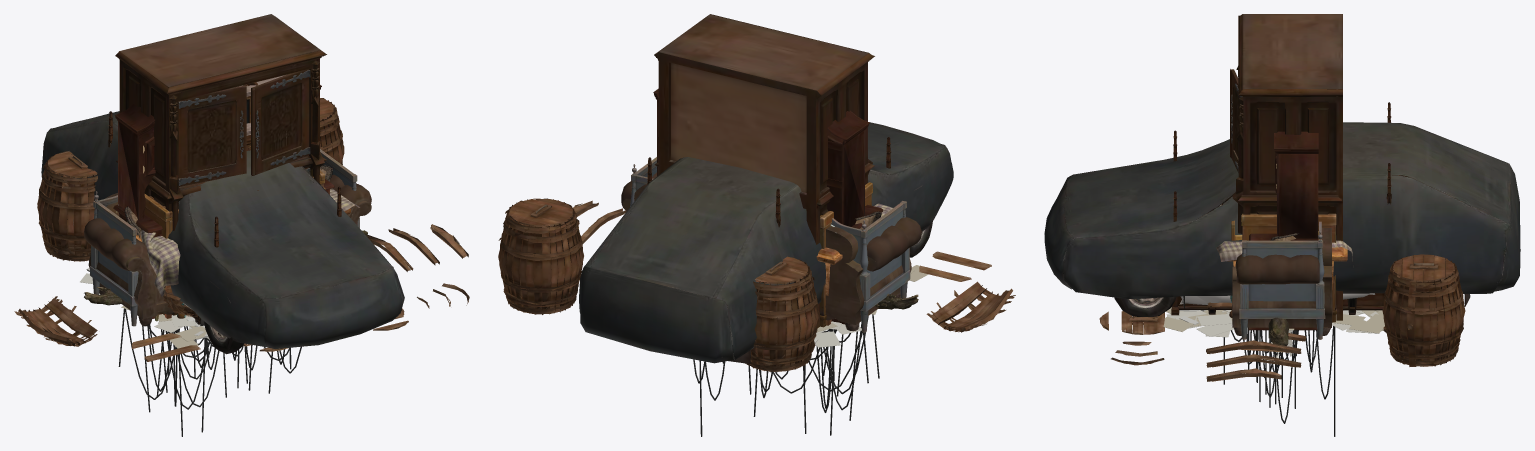
The model's file is props.glb.
3 renders of one model, left to right at view 1: azimuth 30°, elevation 25°; view 2: azimuth 150°, elevation 25°; view 3: azimuth 270°, elevation 25°, orthographic. The views are drawn at different scales.
Parts seen in each view (by area): view 1: covered_car|all, GothicCabinet_01|all, wooden_barrels_01|all, sofa_03|all, vintage_cabinet_01|all, painted_wooden_sofa|all, dining_table|all, UF|ward|cables_5, vintage_wooden_drawer_01|all, UF|ward|cables_2, GothicBed_01|all, dead_tree_trunk|all; view 2: covered_car|all, GothicCabinet_01|all, wooden_barrels_01|all, sofa_03|all, vintage_cabinet_01|all, painted_wooden_sofa|all, UF|ward|cables_5, UF|ward|cables_2, vintage_wooden_drawer_01|all, dining_table|all; view 3: covered_car|all, GothicCabinet_01|all, wooden_barrels_01|all, sofa_03|all, vintage_cabinet_01|all, painted_wooden_sofa|all, GothicBed_01|all, vintage_wooden_drawer_01|all, dining_table|all, UF|ward|litter_2, dead_tree_trunk|all, UF|ward|cables_2 (+1 smaller).
Boxes of the visible parts, bbox=[...] form: covered_car|all: bbox=[41, 111, 404, 354]; GothicCabinet_01|all: bbox=[115, 14, 326, 315]; wooden_barrels_01|all: bbox=[14, 98, 469, 361]; sofa_03|all: bbox=[84, 165, 371, 326]; vintage_cabinet_01|all: bbox=[113, 85, 334, 318]; painted_wooden_sofa|all: bbox=[90, 149, 359, 326]; dining_table|all: bbox=[136, 188, 359, 318]; UF|ward|cables_5: bbox=[156, 329, 226, 436]; vintage_wooden_drawer_01|all: bbox=[144, 170, 325, 314]; UF|ward|cables_2: bbox=[118, 308, 239, 399]; GothicBed_01|all: bbox=[108, 111, 341, 322]; dead_tree_trunk|all: bbox=[84, 230, 367, 305]; covered_car|all: bbox=[579, 122, 953, 363]; GothicCabinet_01|all: bbox=[654, 14, 874, 328]; wooden_barrels_01|all: bbox=[498, 198, 1015, 372]; sofa_03|all: bbox=[621, 172, 921, 331]; vintage_cabinet_01|all: bbox=[653, 88, 883, 324]; painted_wooden_sofa|all: bbox=[630, 157, 910, 332]; UF|ward|cables_5: bbox=[753, 314, 879, 435]; UF|ward|cables_2: bbox=[699, 324, 868, 436]; vintage_wooden_drawer_01|all: bbox=[819, 182, 873, 327]; dining_table|all: bbox=[816, 203, 892, 325]; covered_car|all: bbox=[1044, 122, 1520, 316]; GothicCabinet_01|all: bbox=[1221, 14, 1342, 320]; wooden_barrels_01|all: bbox=[1099, 175, 1465, 381]; sofa_03|all: bbox=[1232, 228, 1332, 335]; vintage_cabinet_01|all: bbox=[1248, 131, 1318, 330]; painted_wooden_sofa|all: bbox=[1239, 221, 1325, 339]; GothicBed_01|all: bbox=[1171, 102, 1391, 315]; vintage_wooden_drawer_01|all: bbox=[1231, 213, 1336, 322]; dining_table|all: bbox=[1214, 204, 1353, 289]; UF|ward|litter_2: bbox=[1179, 314, 1383, 330]; dead_tree_trunk|all: bbox=[1268, 317, 1288, 345]; UF|ward|cables_2: bbox=[1316, 326, 1335, 436].
Bounding box in the file's own units: 4.44 × 3.75 × 4.37.
Materials: 122 (93 with a texture image).
